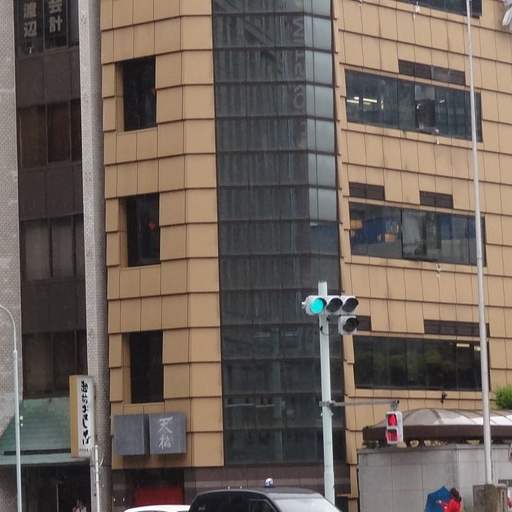Traffic_Signal_Blue: (296, 287, 368, 319)
